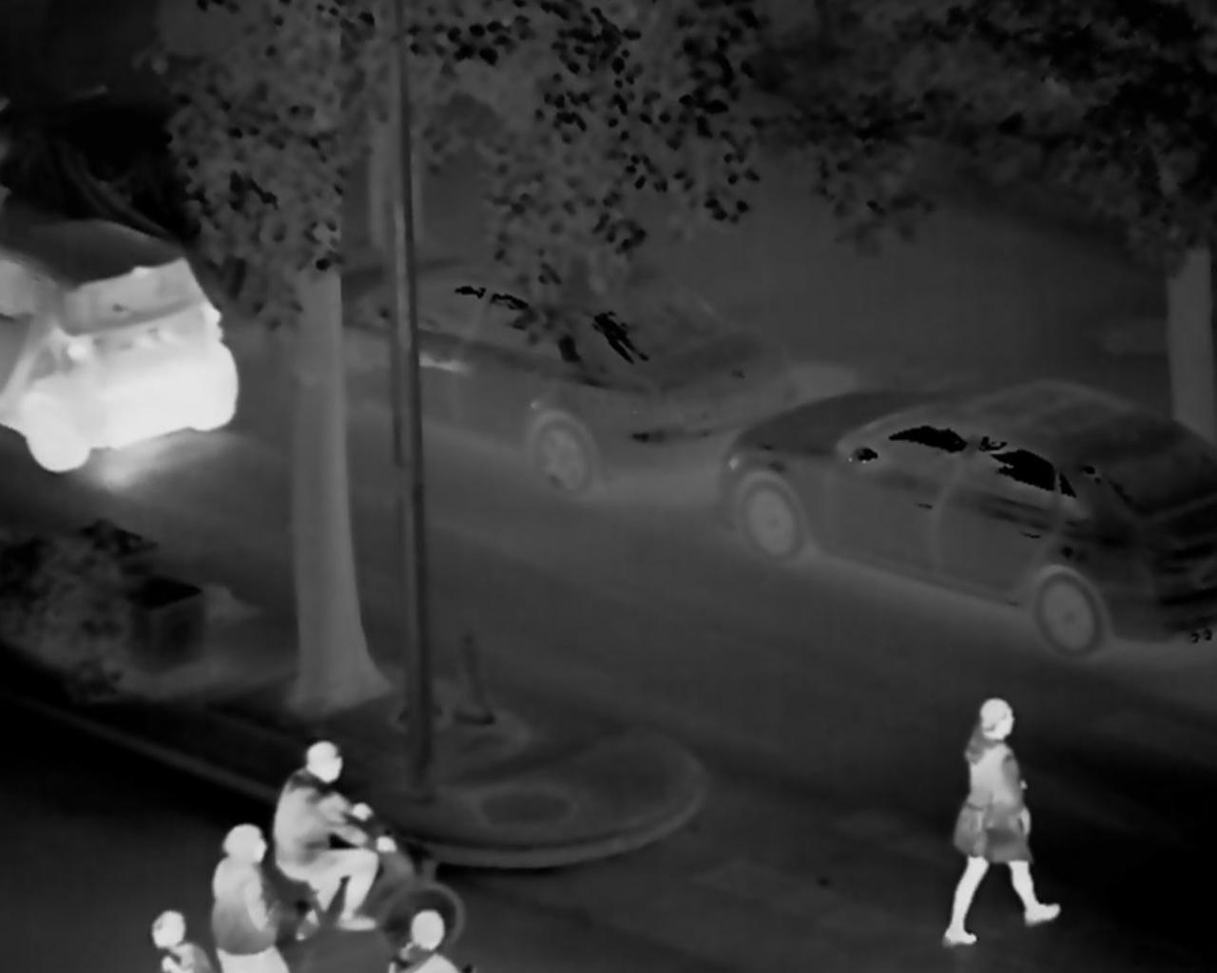person: (946, 692, 1056, 953), (272, 733, 377, 941), (211, 824, 287, 973), (383, 913, 462, 973), (149, 912, 215, 973)
